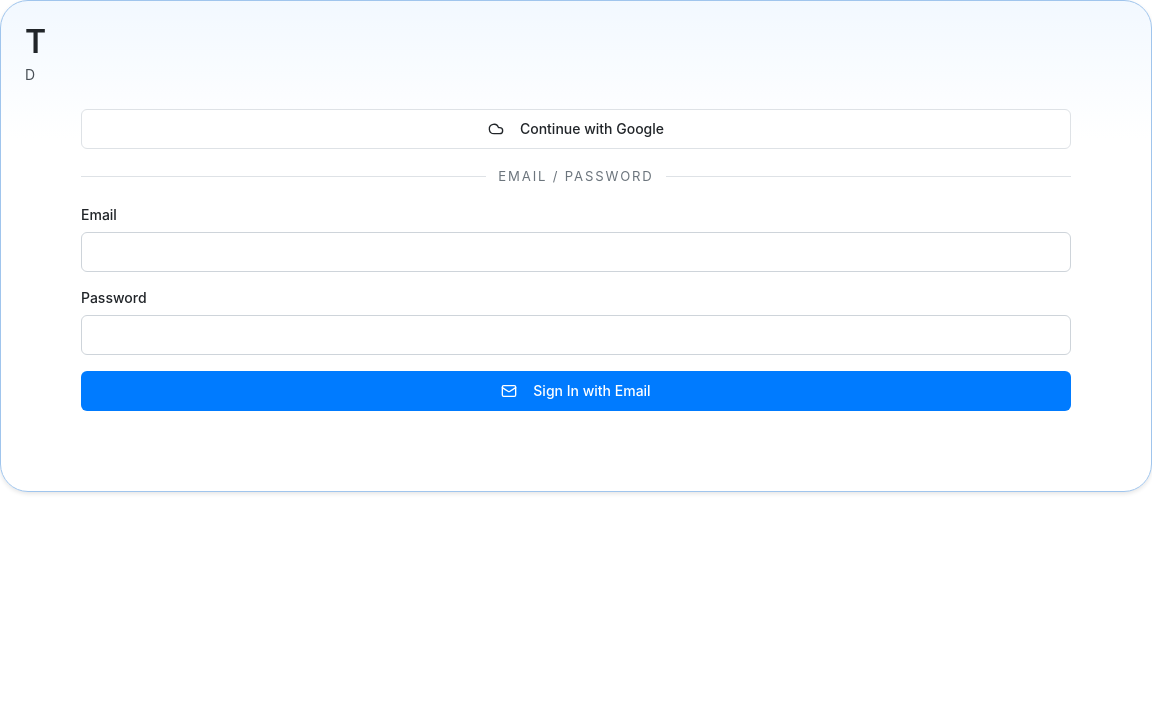
Test case: BetaAuthCard › handles email sign-in general failure
Type "test@example.com" into the field labelled "Email" at (576, 252), box 81,232 -> 1071,272
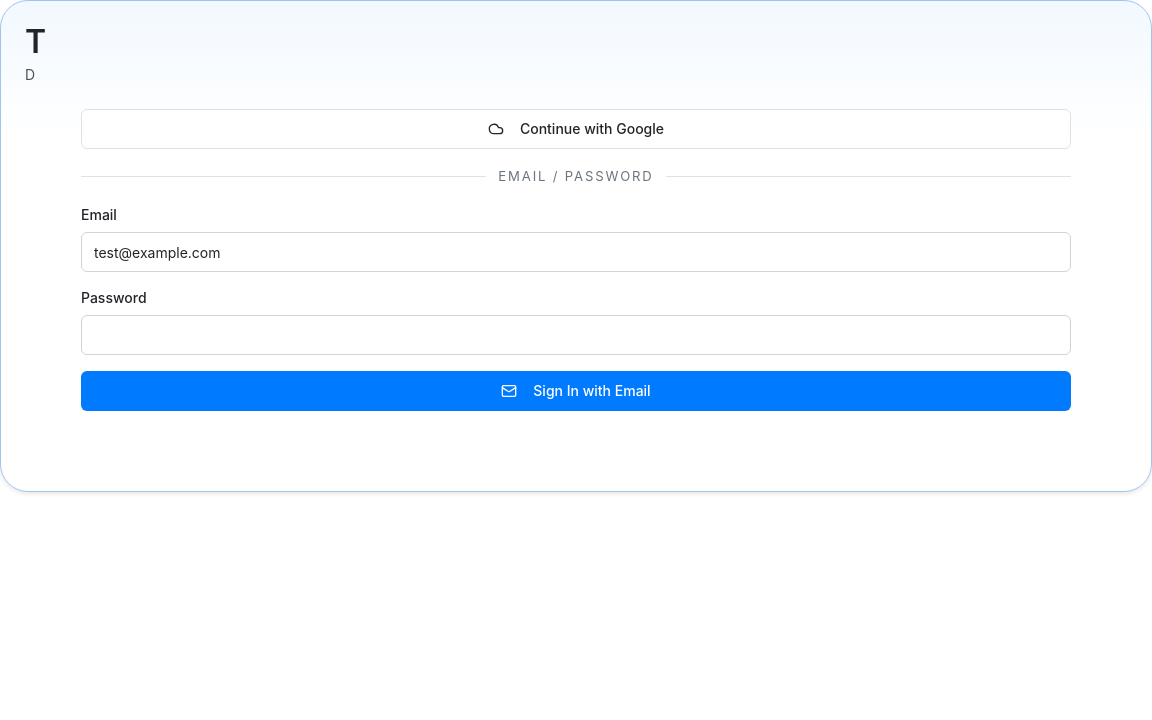
Type "password123" into the password field labelled "Password" at (576, 335), box 81,315 -> 1071,355
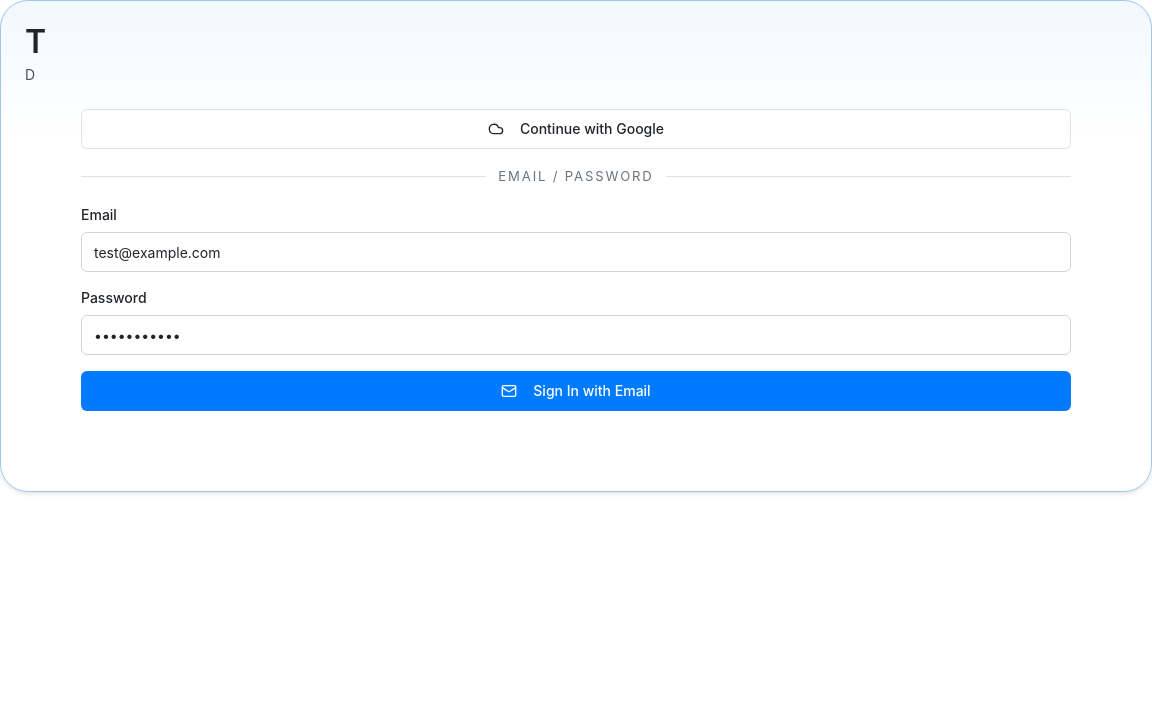
Click the button "Sign In with Email" at (576, 391), box 81,371 -> 1071,411
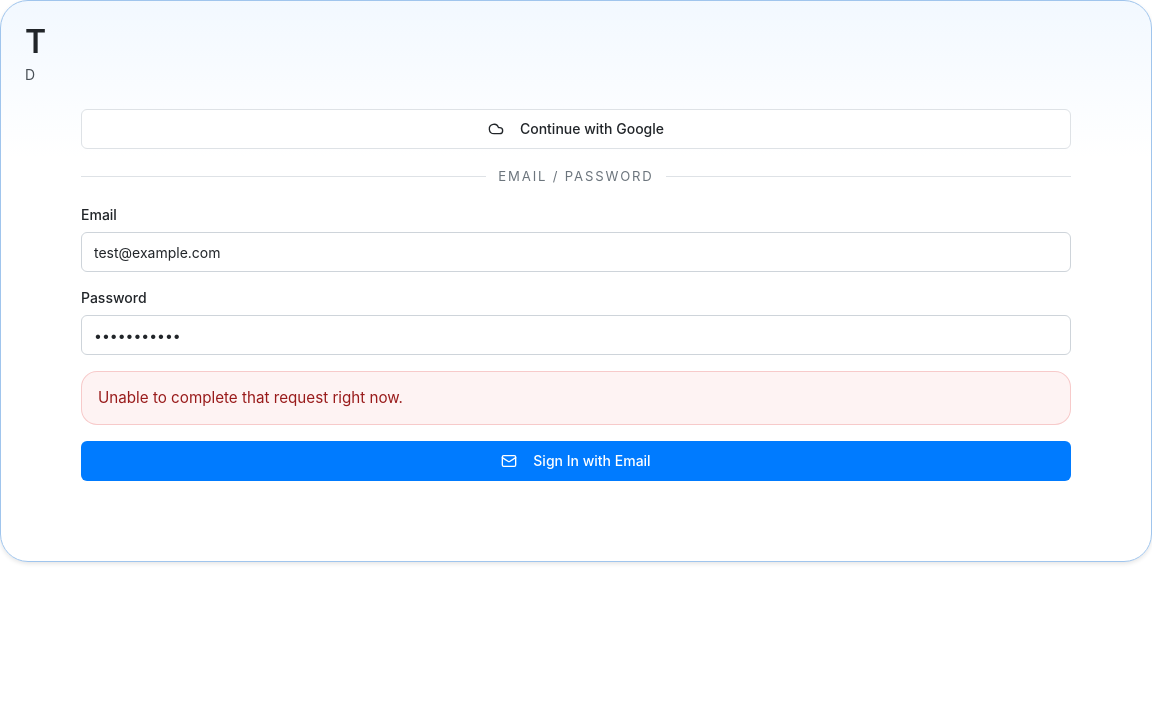
Now the text "Unable to complete that request right now." is shown, box 81,371 -> 1071,425
